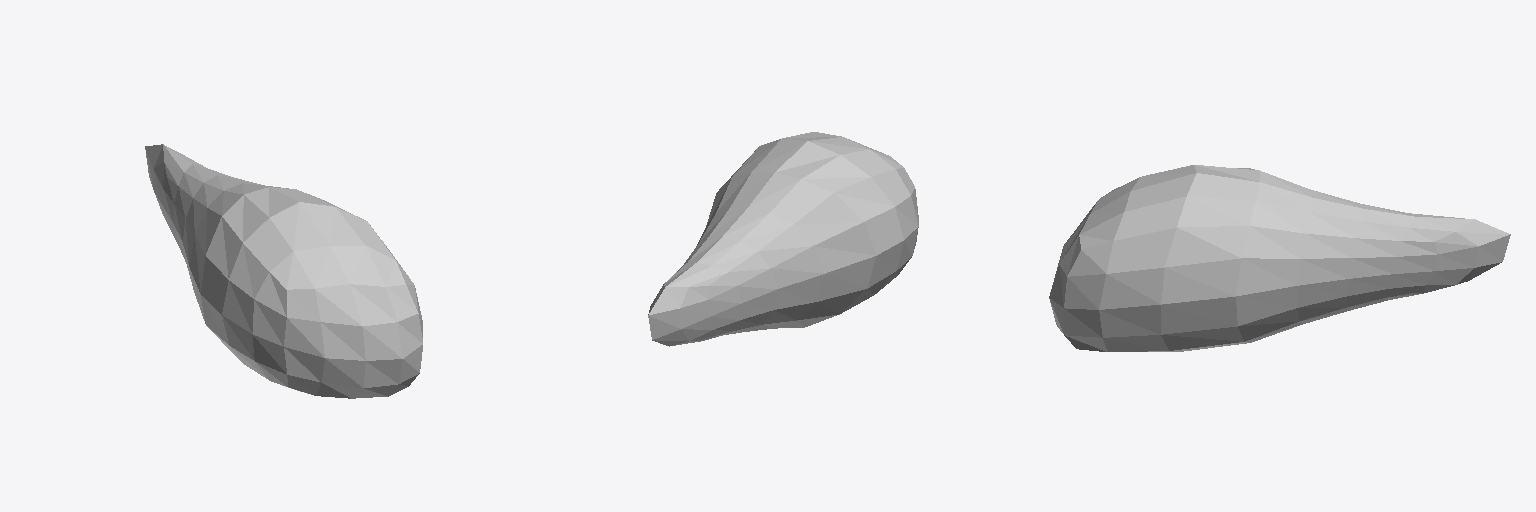
The model's file is DROPLET2.mtl.mtl.obj.
3 renders of one model, left to right at view 1: azimuth 30°, elevation 25°; view 2: azimuth 150°, elevation 25°; view 3: azimuth 270°, elevation 25°, orthographic.
Parts seen in each view (by area): view 1: Cube.003; view 2: Cube.003; view 3: Cube.003.
Boxes of the visible parts, box(x1,y1,x2,y2) form: Cube.003: box(145, 144, 422, 398); Cube.003: box(648, 132, 918, 346); Cube.003: box(1049, 165, 1510, 351).
Bounding box in the file's own units: 0.0867 × 0.082 × 0.2042.